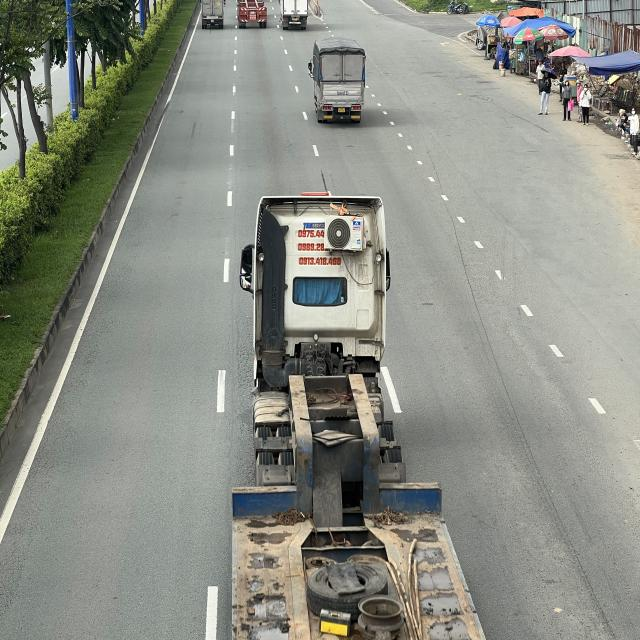container: (230, 193, 487, 640)
truck: (309, 38, 368, 124)
